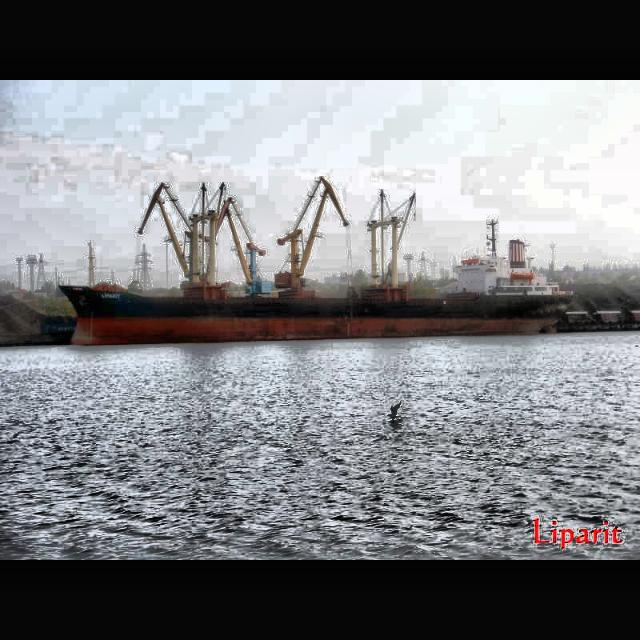bulk_carrier: (56, 174, 574, 348)
